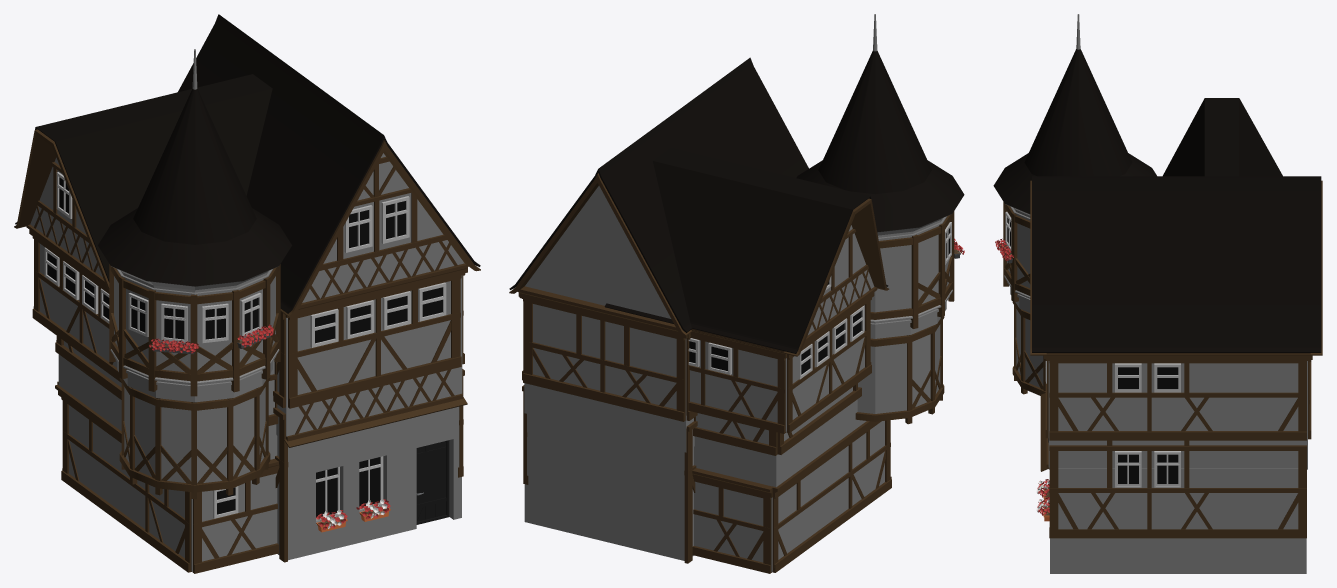
The model's file is SM_house_german_006.fbx.
3 views of the same model, side by side, from view 1: azimuth 30°, elevation 25°; view 2: azimuth 150°, elevation 25°; view 3: azimuth 270°, elevation 25° (orthographic). The views are drawn at different scales.
Visible parts, largest first — view 1: Box198; view 2: Box198; view 3: Box198.
Boxes of the visible parts, x1=… form: Box198: x1=14, y1=14, x2=480, y2=573; Box198: x1=509, y1=14, x2=964, y2=573; Box198: x1=993, y1=14, x2=1322, y2=573.
Bounding box in the file's own units: 445 × 422 × 643.
